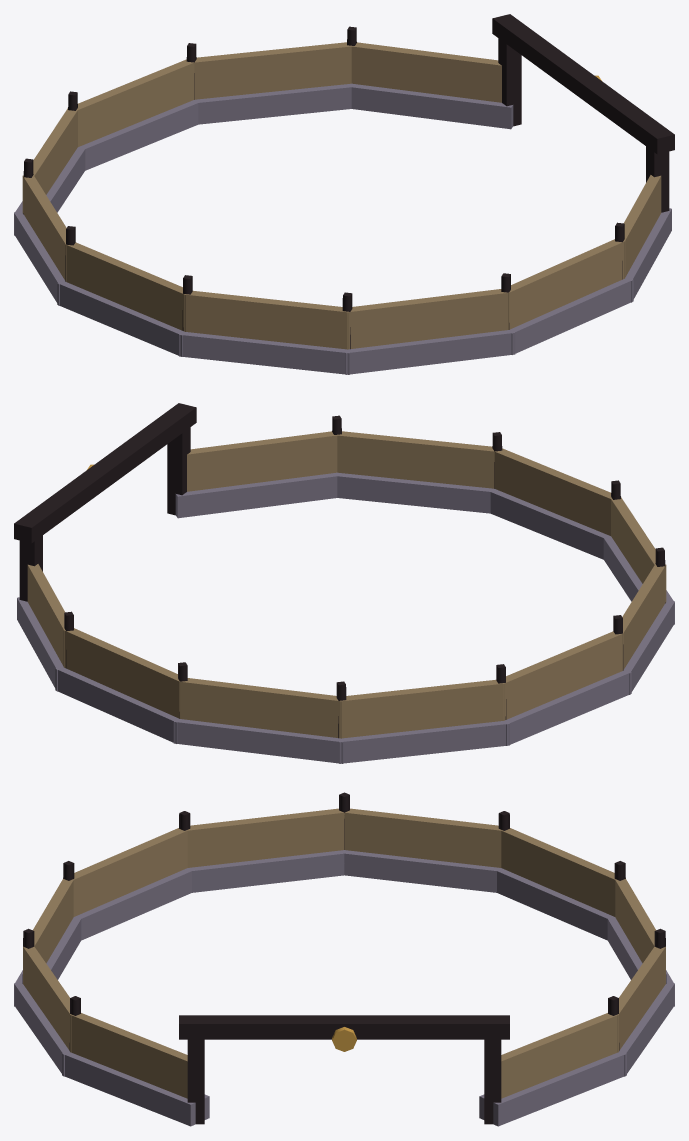
File: base_builder_walls_1.glb
3 renders of one model, top to bottom at view 1: azimuth 30°, elevation 25°; view 2: azimuth 150°, elevation 25°; view 3: azimuth 270°, elevation 25°, orthographic.
Parts seen in each view (by area): view 1: wall_6_planks, wall_7_planks, wall_1_planks, wall_0_planks, gate_beam, wall_5_planks, wall_8_planks, wall_2_planks, wall_6, wall_7, wall_0, wall_1 (+11 smaller); view 2: wall_3_planks, wall_2_planks, wall_8_planks, wall_9_planks, gate_beam, wall_4_planks, wall_1_planks, wall_7_planks, wall_3, wall_2, wall_9, wall_8 (+11 smaller); view 3: gate_beam, wall_4_planks, wall_5_planks, wall_0_planks, wall_9_planks, wall_3_planks, wall_6_planks, wall_4, wall_5, wall_0, wall_9, wall_3 (+11 smaller).
Boxes of the visible parts, x1,y1,x2,y2 form: wall_6_planks: (184, 290, 348, 349); wall_7_planks: (347, 289, 509, 349); wall_1_planks: (190, 42, 351, 99); wall_0_planks: (348, 42, 501, 102); gate_beam: (492, 14, 674, 154); wall_5_planks: (65, 242, 192, 331); wall_8_planks: (508, 239, 625, 329); wall_2_planks: (76, 59, 195, 146); wall_6: (179, 331, 351, 374); wall_7: (345, 329, 515, 374); wall_0: (343, 83, 513, 129); wall_1: (189, 83, 359, 124); wall_3_planks: (340, 679, 504, 738); wall_2_planks: (179, 678, 341, 738); wall_8_planks: (336, 431, 498, 488); wall_9_planks: (187, 431, 340, 491); gate_beam: (14, 403, 196, 543); wall_4_planks: (496, 631, 623, 720); wall_1_planks: (63, 628, 180, 718); wall_7_planks: (492, 448, 612, 535); wall_3: (337, 719, 509, 763); wall_2: (173, 719, 343, 763); wall_9: (175, 473, 341, 518); wall_8: (329, 472, 499, 513); gate_beam: (179, 1015, 509, 1039); wall_4_planks: (341, 808, 502, 867); wall_5_planks: (185, 808, 347, 867); wall_0_planks: (501, 1013, 618, 1098); wall_9_planks: (70, 1013, 187, 1098); wall_3_planks: (499, 828, 615, 916); wall_6_planks: (73, 828, 187, 916); wall_4: (336, 850, 505, 892); wall_5: (182, 850, 350, 892); wall_0: (479, 1050, 626, 1126); wall_9: (62, 1050, 209, 1126); wall_3: (491, 867, 616, 940).
Size of the model in its own units: 0.9126 by 0.1625 by 0.9627.
